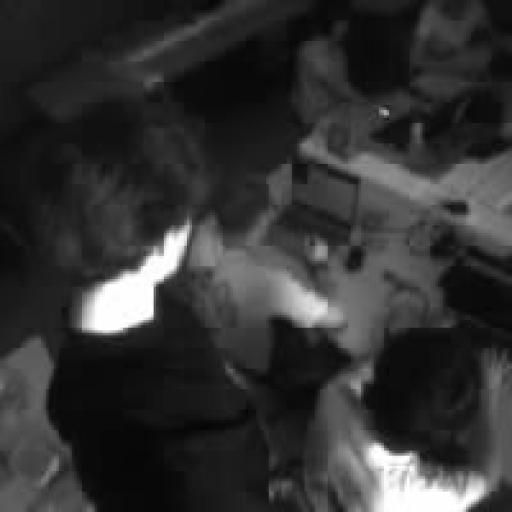human: (34, 98, 271, 511), (305, 328, 509, 511), (187, 177, 348, 373), (292, 0, 424, 125), (413, 0, 491, 76)
